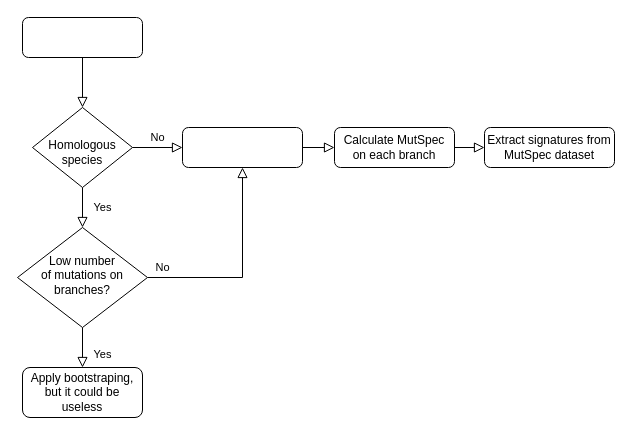
This 632x435 diagram has some shape labels left out. Each missing label, with the centre of its shape:
"Collect mutations from branches" belongs at point (242, 147).
"Phylogenetic Tree" belongs at point (82, 37).
